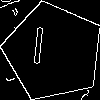I: (28, 26, 48, 73)
